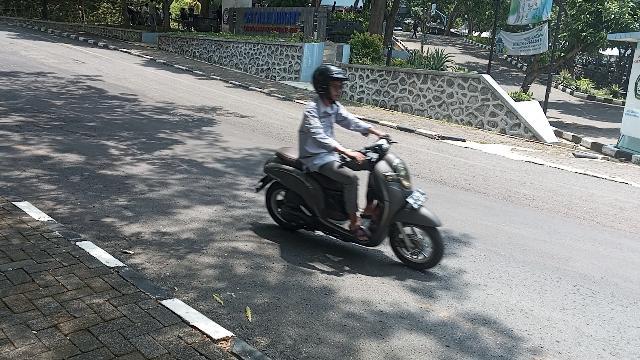motor: (255, 141, 444, 272), (313, 66, 349, 102)
